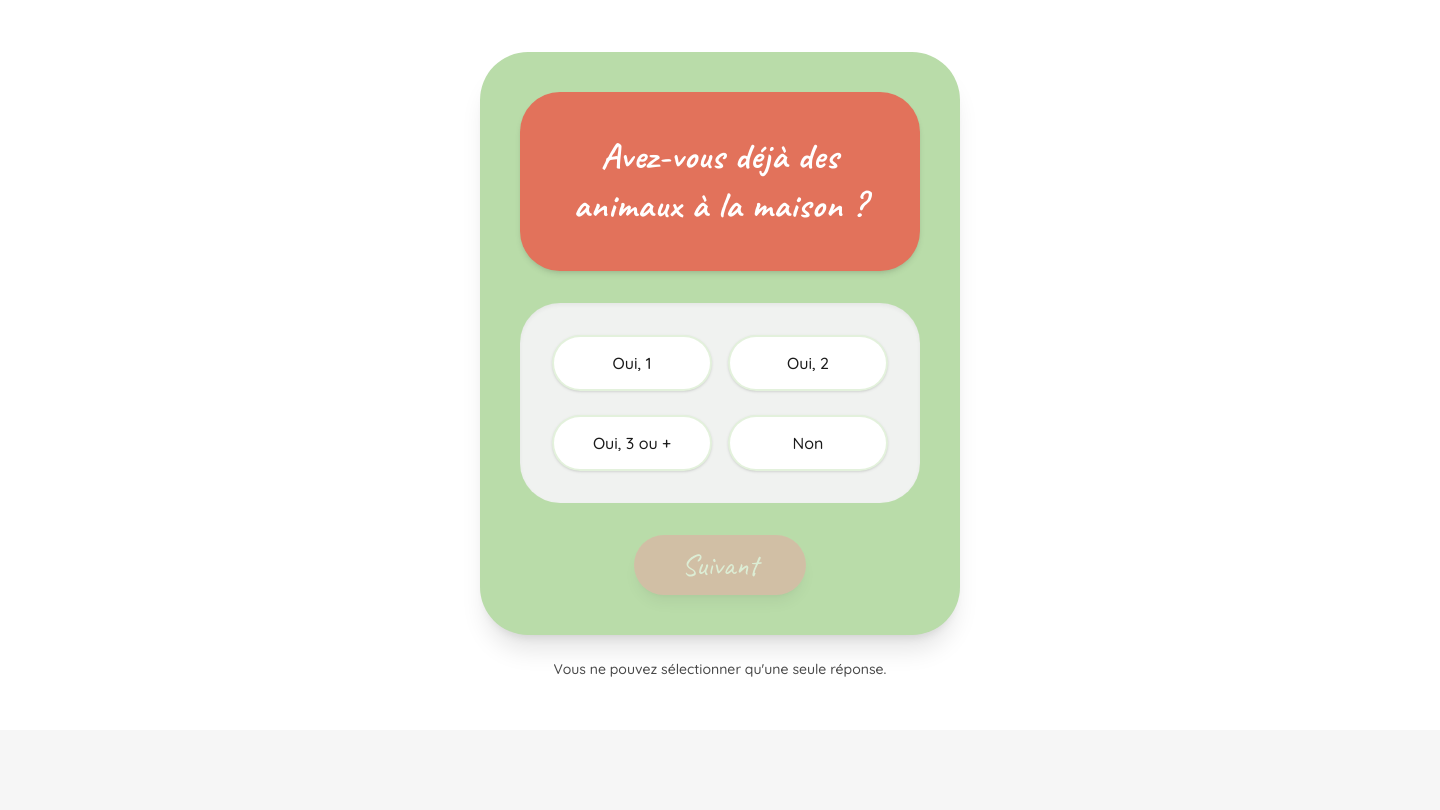
Test: Composant Questionnaire › permet de sélectionner une réponse et de passer à la suite
The width and height of the screenshot is (1440, 810).
// Sélectionner 'Non'
Click the button "Non".
click(808, 442)  # box [728,414,888,470]
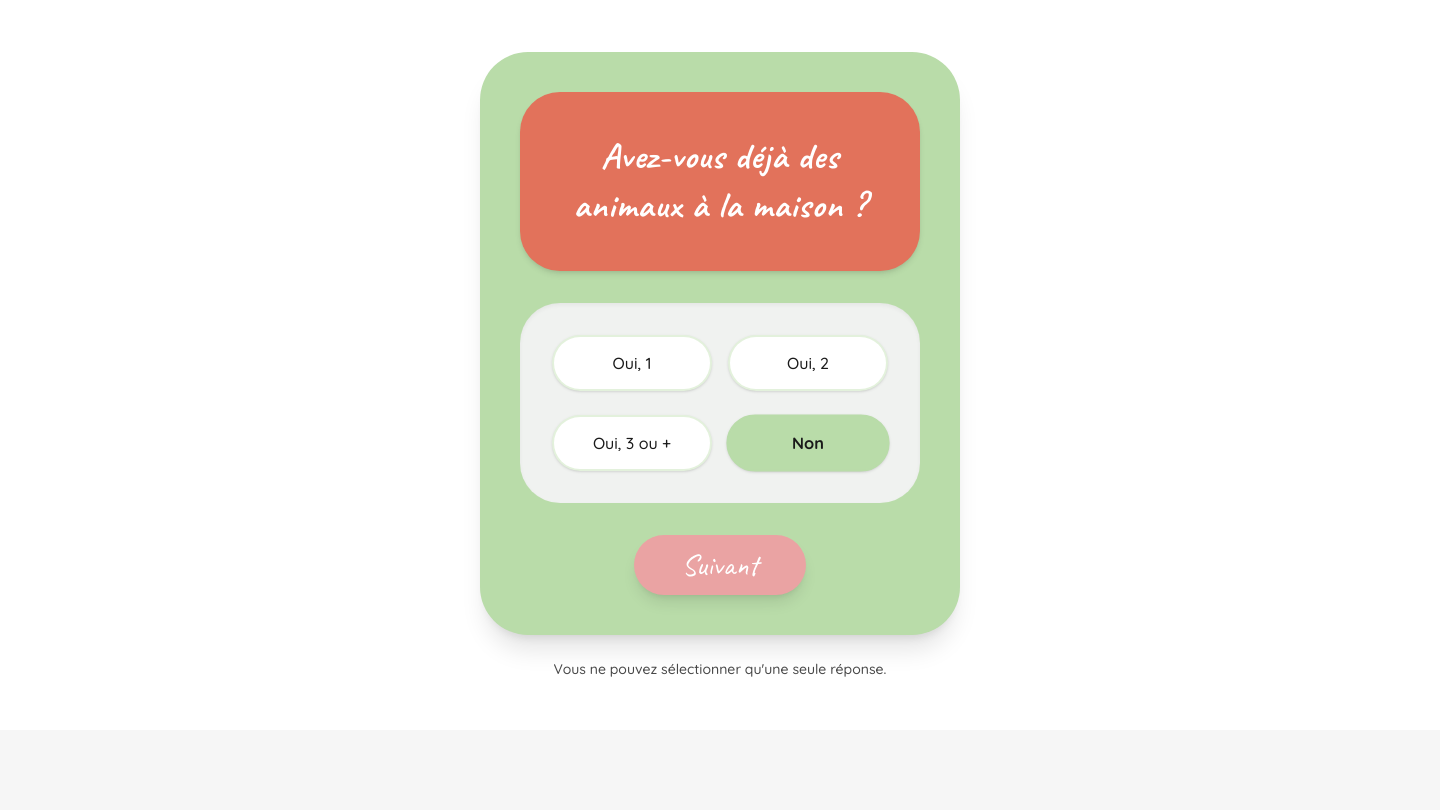
// Cliquer sur 'Suivant'
Click the button "Suivant".
click(720, 564)  # box [634,534,806,594]
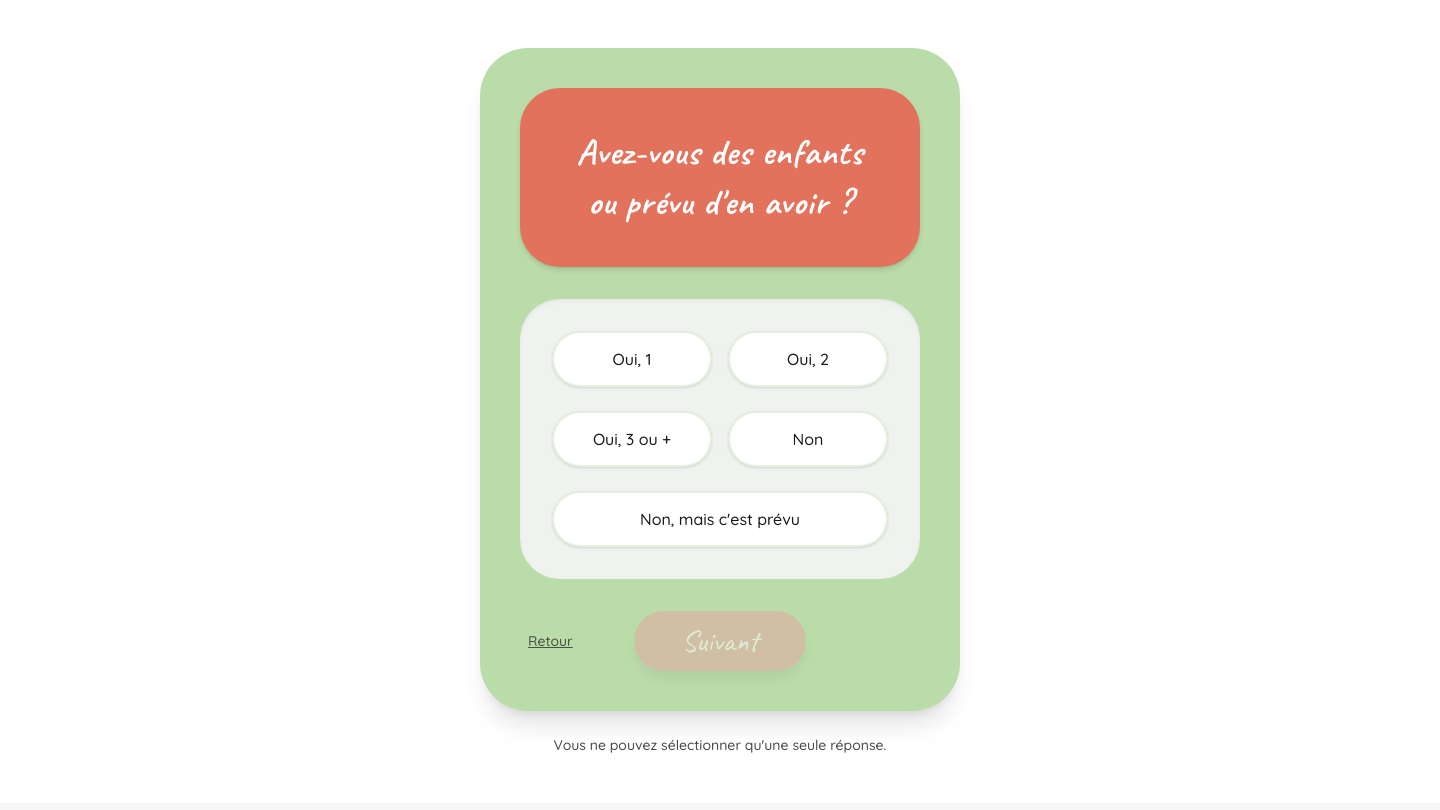
Expected: the heading "Avez-vous des enfants ou prévu d'en avoir ?" is shown, [560,128,880,227]
